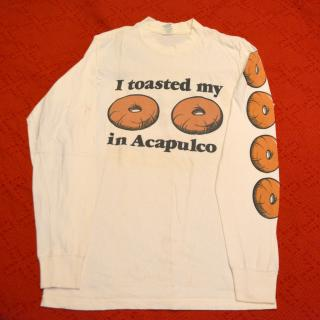Doughnut: (171, 96, 224, 136), (106, 94, 159, 129), (253, 178, 278, 220), (250, 136, 278, 173), (246, 92, 274, 128), (245, 51, 266, 88)
